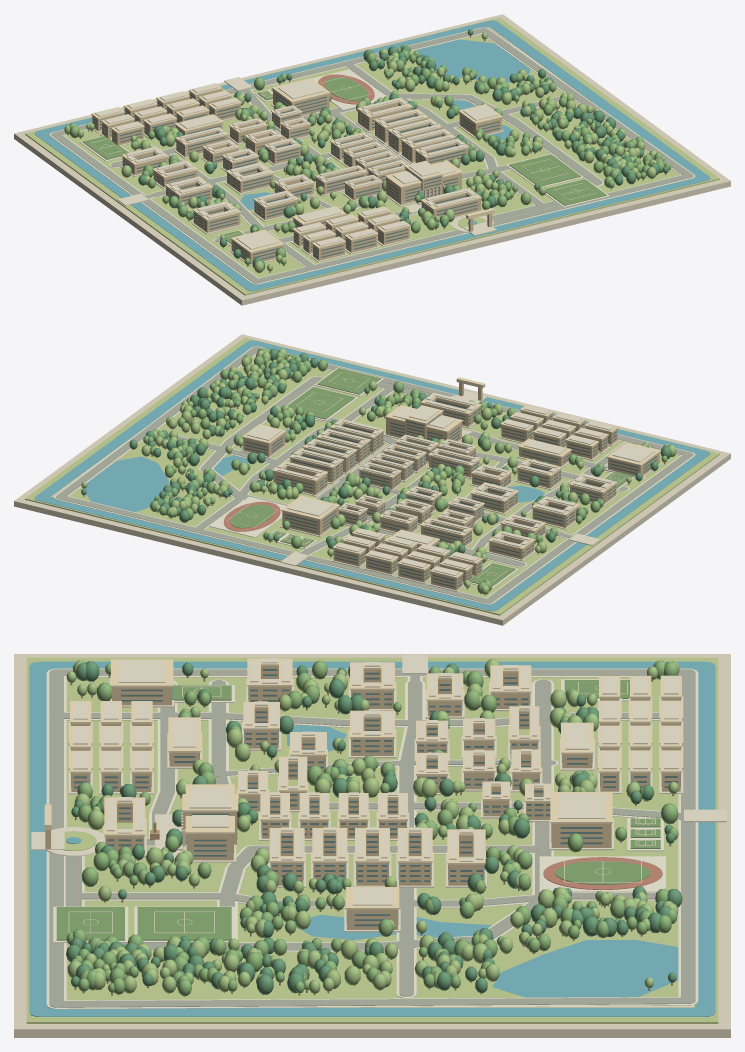
The model's file is nku-jinnan-reference.glb.
The picture shows the model from 3 angles, top to bottom: view 1: azimuth 30°, elevation 25°; view 2: azimuth 150°, elevation 25°; view 3: azimuth 270°, elevation 25°; orthographic projection. The views are drawn at different scales.
Visible parts, largest first — view 1: Nankai_Jinnan_Reference_Model, 示意绿化, 校园地面, 模型底座, 东北湖面, 图书馆, 体育馆, 国际教育学院, 实验动物中心, 药学院, 新闻与传播学院, 大学生活动中心 (+29 smaller); view 2: Nankai_Jinnan_Reference_Model, 示意绿化, 校园地面, 模型底座, 东北湖面, 图书馆, 体育馆, 实验动物中心, 基础实验楼, 环境科学与工程学院, 大学生活动中心, 国际教育学院 (+29 smaller); view 3: Nankai_Jinnan_Reference_Model, 示意绿化, 校园地面, 模型底座, 东北湖面, 图书馆, 体育馆, 实验动物中心, 大学生活动中心, 新闻与传播学院, 综合实验楼 D 区, 国际教育学院 (+48 smaller).
Boxes of the visible parts, <box> form: Nankai_Jinnan_Reference_Model: <box>34,20,710,291</box>; 示意绿化: <box>64,29,671,272</box>; 校园地面: <box>25,17,719,295</box>; 模型底座: <box>14,14,730,305</box>; 东北湖面: <box>416,39,530,82</box>; 图书馆: <box>385,160,463,206</box>; 体育馆: <box>270,78,331,117</box>; 国际教育学院: <box>420,188,482,222</box>; 实验动物中心: <box>229,229,285,266</box>; 药学院: <box>191,201,242,234</box>; 新闻与传播学院: <box>224,162,274,194</box>; 大学生活动中心: <box>457,104,503,138</box>; Nankai_Jinnan_Reference_Model: <box>34,340,710,611</box>; 示意绿化: <box>81,348,676,595</box>; 校园地面: <box>25,337,719,615</box>; 模型底座: <box>14,334,730,625</box>; 东北湖面: <box>82,456,169,512</box>; 图书馆: <box>383,405,463,441</box>; 体育馆: <box>280,495,339,537</box>; 实验动物中心: <box>606,442,661,478</box>; 基础实验楼: <box>272,461,329,496</box>; 环境科学与工程学院: <box>531,496,580,529</box>; 大学生活动中心: <box>241,424,287,458</box>; 国际教育学院: <box>420,392,482,428</box>; Nankai_Jinnan_Reference_Model: <box>29,661,715,1016</box>; 示意绿化: <box>66,659,682,996</box>; 校园地面: <box>26,657,718,1023</box>; 模型底座: <box>14,654,730,1037</box>; 东北湖面: <box>492,940,678,997</box>; 图书馆: <box>174,784,238,862</box>; 体育馆: <box>549,792,613,850</box>; 实验动物中心: <box>109,659,174,707</box>; 大学生活动中心: <box>344,887,400,932</box>; 新闻与传播学院: <box>348,710,396,758</box>; 综合实验楼 D 区: <box>396,827,433,887</box>; 国际教育学院: <box>103,797,146,857</box>.
Bounding box in the file's own units: 104 × 6.38 × 84.
